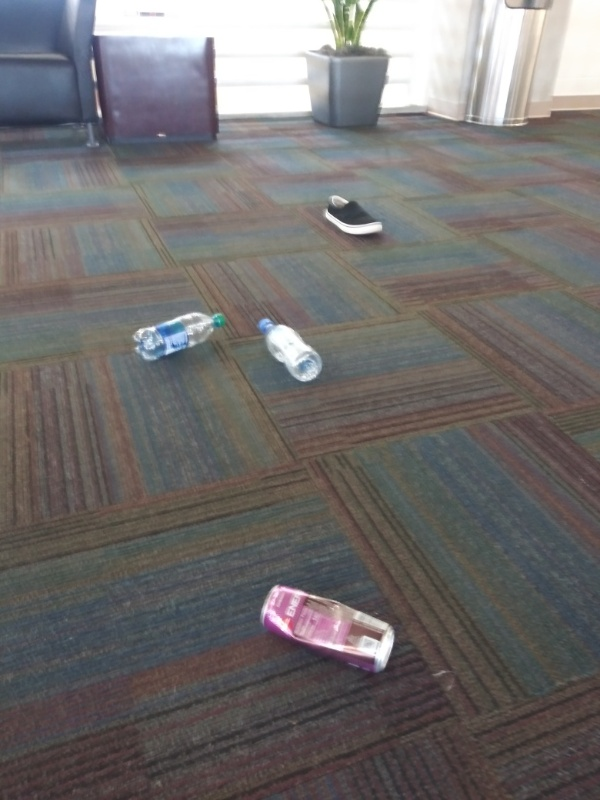bottle: (130, 305, 231, 364), (253, 313, 324, 387)
can: (253, 578, 400, 676)
